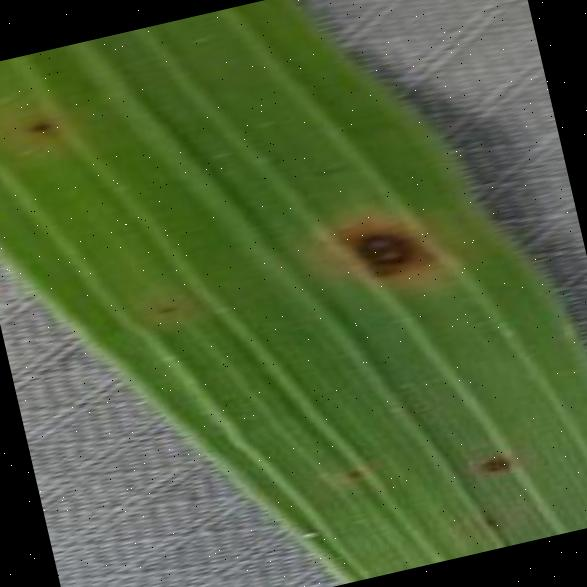Brown_Spot: (296, 177, 466, 323), (293, 146, 359, 187), (459, 442, 517, 483), (13, 106, 60, 142), (329, 455, 375, 491), (469, 504, 509, 539), (142, 290, 184, 323)
